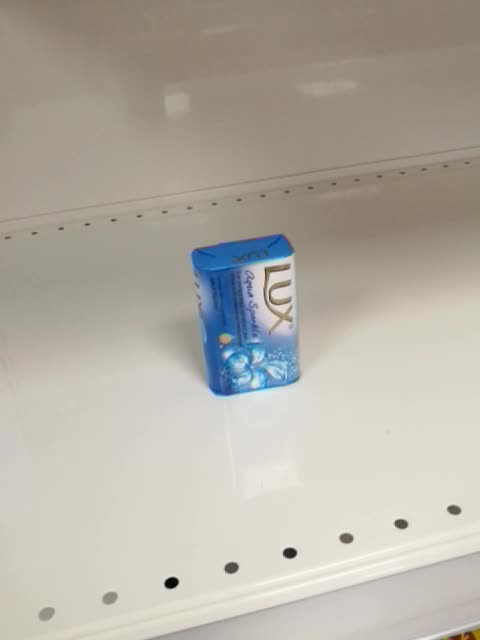soap: (189, 230, 304, 398)
